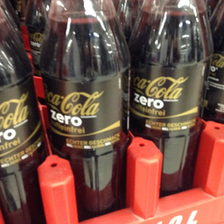soda: (40, 1, 132, 217), (129, 1, 207, 195), (1, 2, 46, 224)
